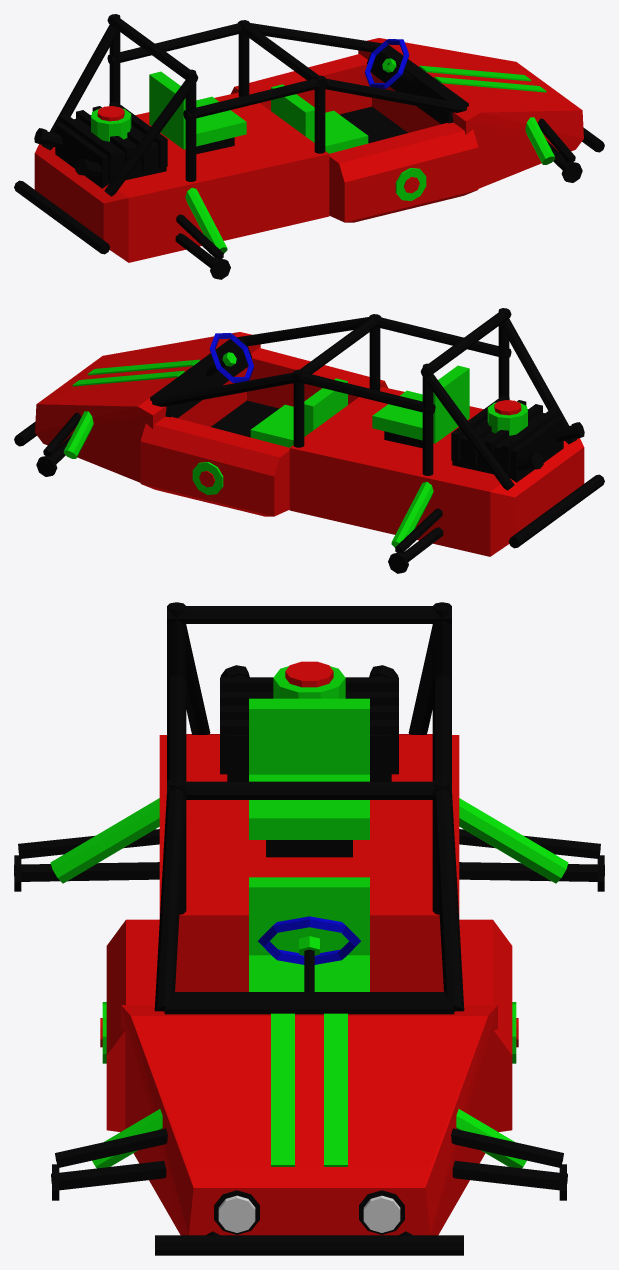
File: SM_TN_BuggyBody.fbx
3 views of the same model, one above another, from view 1: azimuth 30°, elevation 25°; view 2: azimuth 150°, elevation 25°; view 3: azimuth 270°, elevation 25° (orthographic). The views are drawn at different scales.
Visible parts, largest first — view 1: SM_TN_BuggyBody; view 2: SM_TN_BuggyBody; view 3: SM_TN_BuggyBody.
Part boxes in pixels (x1,y1,x2,y2): SM_TN_BuggyBody: [14, 14, 604, 279]; SM_TN_BuggyBody: [14, 308, 604, 573]; SM_TN_BuggyBody: [14, 602, 604, 1255].
Size of the model in its own units: 422 by 140 by 245.
